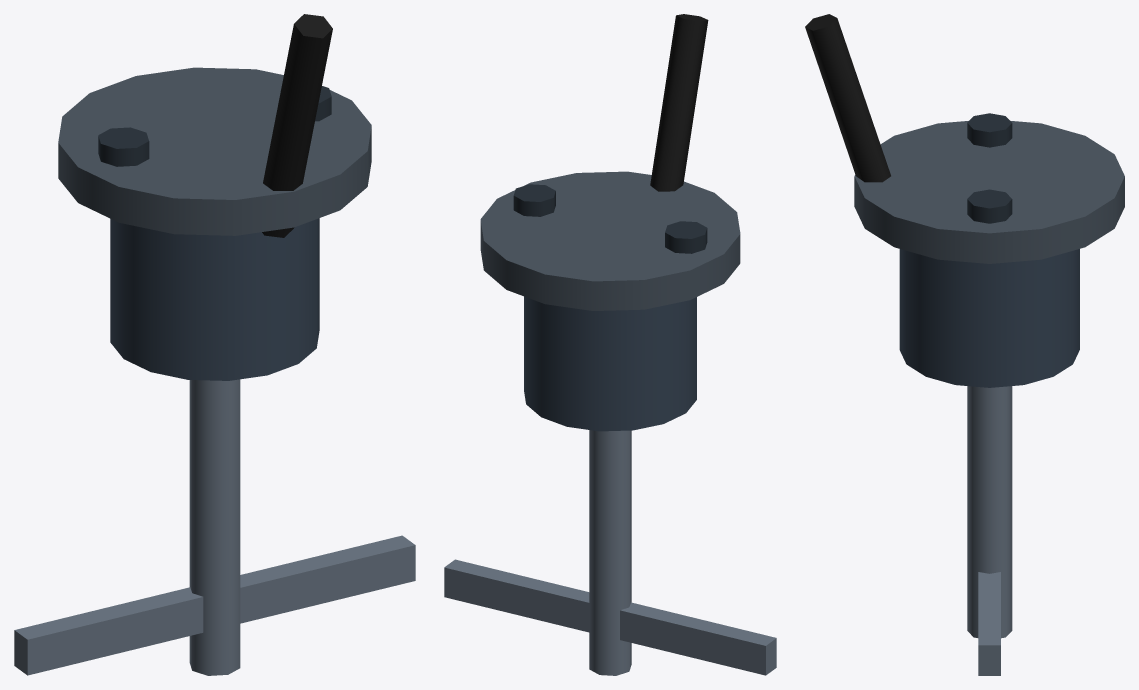
The model's file is level-sensor.glb.
3 renders of one model, left to right at view 1: azimuth 30°, elevation 25°; view 2: azimuth 150°, elevation 25°; view 3: azimuth 270°, elevation 25°, orthographic. The views are drawn at different scales.
Size of the model in its own units: 0.34 by 0.6 by 0.2839.
